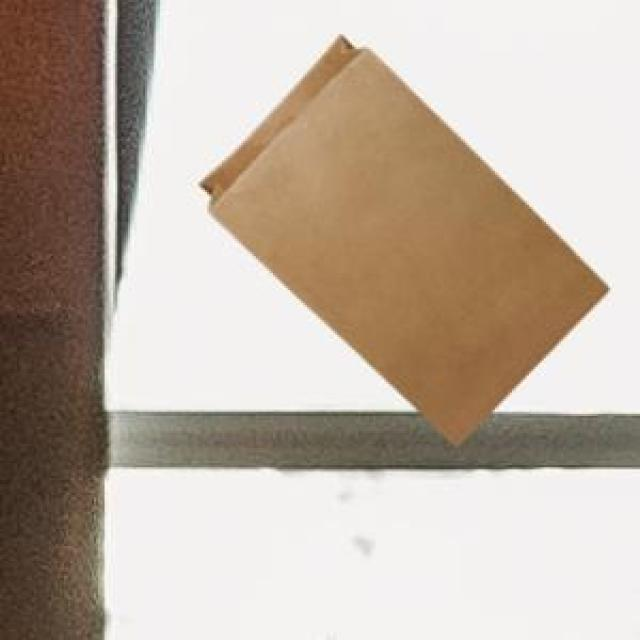paper: (196, 32, 604, 442)
